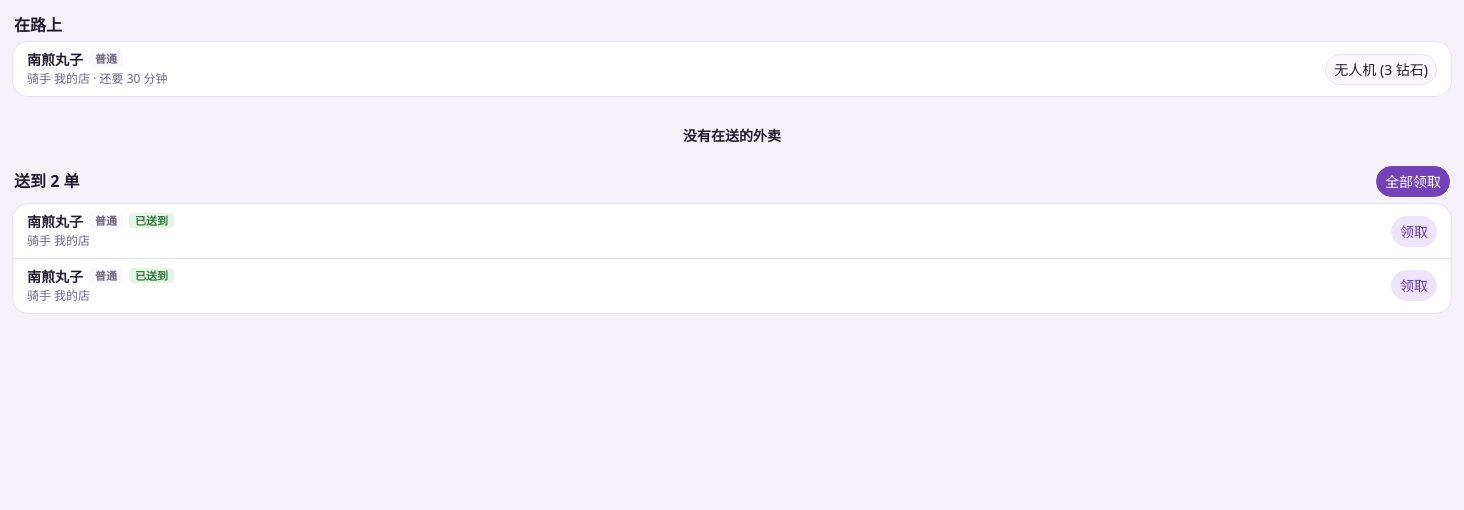
Test: DeliveriesPanel › 全部领取：没有已到的就不显示（问题记录 394：领完后还挂着绿色按钮）；领到几单显示几张结果
What coordinates should you click on to do the following:
click the button with test id "claim-all"
I would click on:
 (1413, 182)
Its box is left=1376, top=166, right=1450, bottom=197.
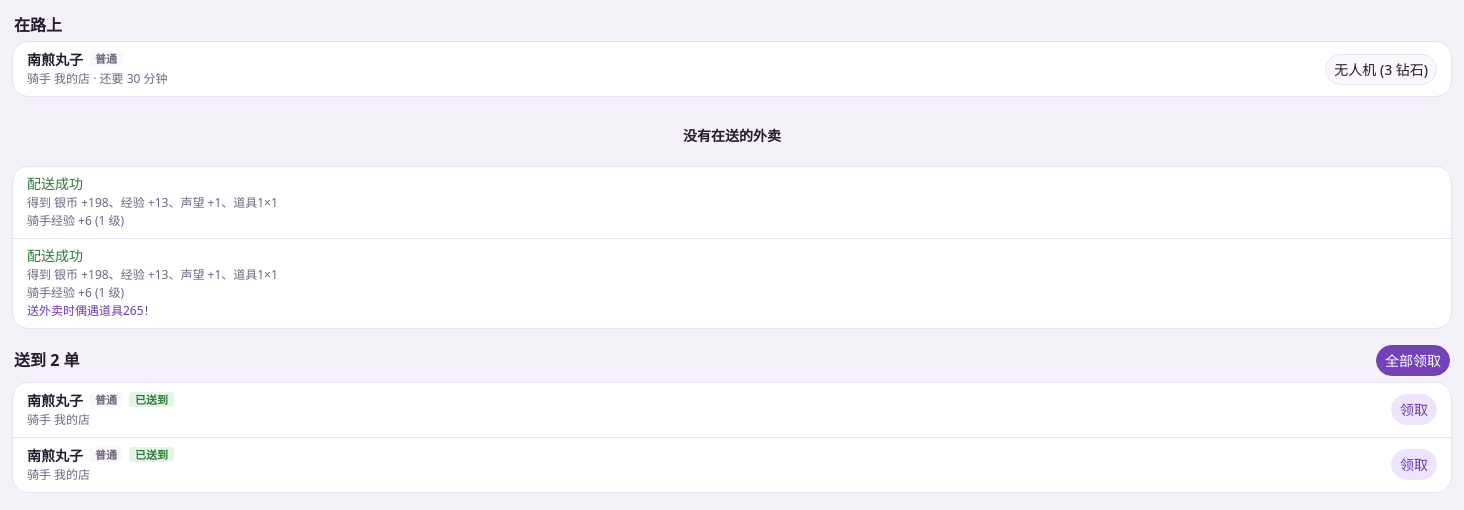
Now the number of elements with test id "result" is 2, box left=27, top=174, right=278, bottom=229; left=13, top=238, right=1451, bottom=328
Now the text "送外卖时偶遇道具265！" is shown, box left=27, top=302, right=156, bottom=319
